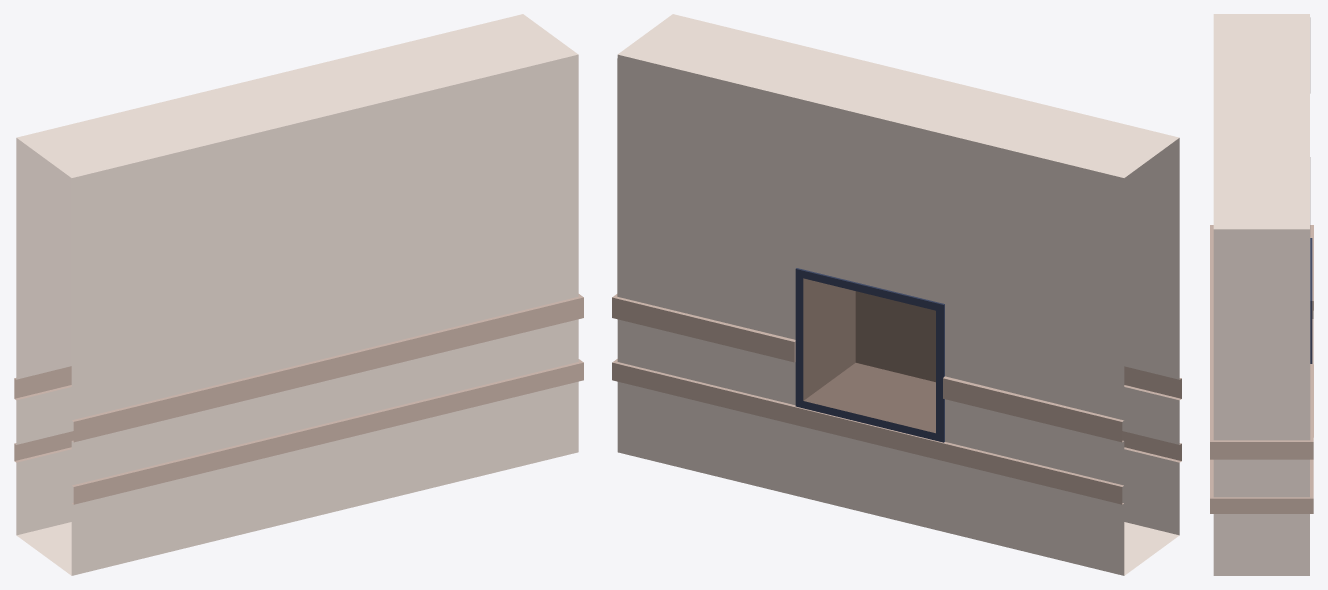
Rendered from Wall_Secret_Compartment.fbx.
3 renders of one model, left to right at view 1: azimuth 30°, elevation 25°; view 2: azimuth 150°, elevation 25°; view 3: azimuth 270°, elevation 25°, orthographic. The views are drawn at different scales.
Visible parts, largest first — view 1: Wall_02_x3_x4_copy11; view 2: Wall_02_x3_x4_copy11; view 3: Wall_02_x3_x4_copy11.
Boxes of the visible parts, left/top/right/bottom form: Wall_02_x3_x4_copy11: left=14, top=14, right=583, bottom=575; Wall_02_x3_x4_copy11: left=612, top=14, right=1181, bottom=575; Wall_02_x3_x4_copy11: left=1210, top=14, right=1313, bottom=575.
Bounding box in the file's own units: 403 × 300 × 81.52.
